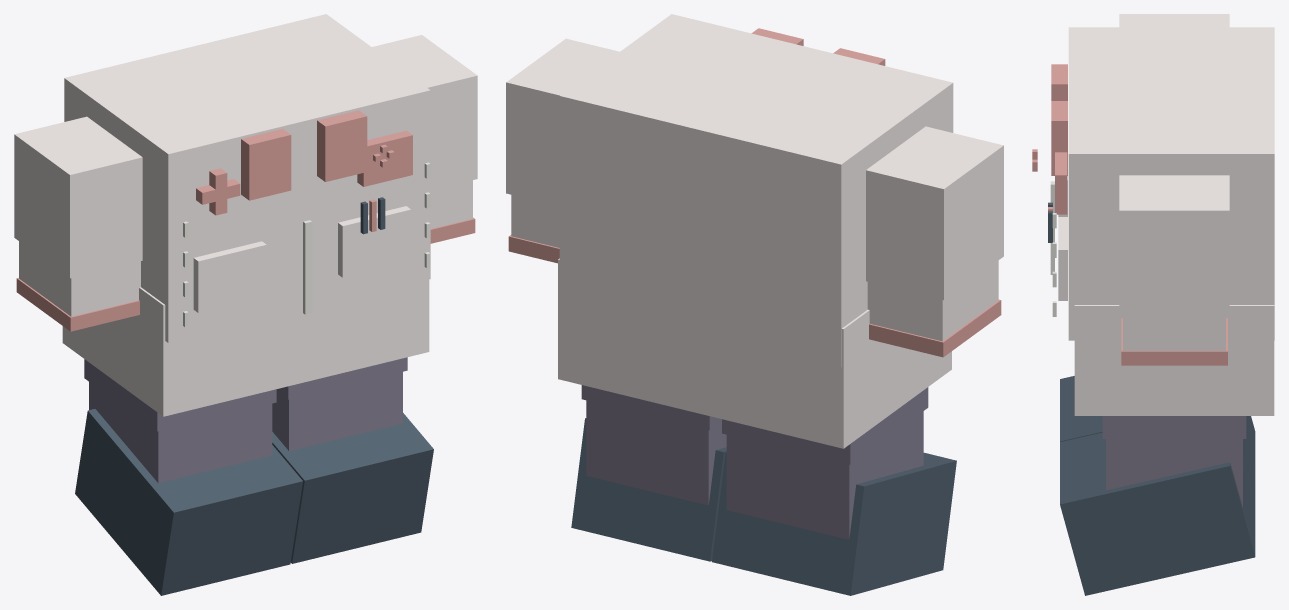
File: pharmacy-coral.glb
3 views of the same model, side by side, from view 1: azimuth 30°, elevation 25°; view 2: azimuth 150°, elevation 25°; view 3: azimuth 270°, elevation 25° (orthographic). The views are drawn at different scales.
Parts seen in each view (by area): view 1: jacket, coat-tails, shoe-Right, upper-sleeve-Right, shoe-Left, lower-trouser-Right, upper-sleeve-Left, lower-trouser-Left, lower-sleeve-Right, pocket--1, pocket-1, lapel-1 (+10 smaller); view 2: jacket, coat-tails, upper-sleeve-Right, shoe-Right, lower-trouser-Right, lower-trouser-Left, upper-sleeve-Left, shoe-Left, lower-sleeve-Right, trouser-Right, cuff-Right, lower-sleeve-Left (+2 smaller); view 3: jacket, shoe-Left, coat-tails, upper-sleeve-Left, lower-trouser-Left, lower-sleeve-Left, trouser-Left, shoe-Right, cuff-Left, upper-sleeve-Right, lapel-1, pocket-1 (+2 smaller).
Part boxes in pixels (x1,y1,x2,y2): jacket: (64, 14, 430, 342); coat-tails: (62, 279, 429, 416); shoe-Right: (75, 409, 302, 595); upper-sleeve-Right: (14, 116, 142, 278); shoe-Left: (272, 413, 433, 563); lower-trouser-Right: (89, 382, 272, 482); upper-sleeve-Left: (372, 35, 477, 190); lower-trouser-Left: (272, 372, 402, 451); lower-sleeve-Right: (19, 241, 140, 316); pocket--1: (193, 241, 266, 312); pocket-1: (338, 206, 411, 277); lapel-1: (317, 110, 367, 181); jacket: (559, 14, 953, 367); coat-tails: (558, 258, 951, 448); upper-sleeve-Right: (866, 126, 1003, 300); shoe-Right: (712, 452, 956, 595); lower-trouser-Right: (726, 411, 923, 539); lower-trouser-Left: (586, 400, 726, 505); upper-sleeve-Left: (506, 38, 619, 206); shoe-Left: (571, 418, 726, 561); lower-sleeve-Right: (867, 260, 998, 341); trouser-Right: (722, 387, 928, 464); cuff-Right: (869, 299, 1001, 357); lower-sleeve-Left: (511, 195, 559, 247); jacket: (1068, 27, 1274, 340); shoe-Left: (1060, 432, 1255, 595); coat-tails: (1074, 305, 1274, 415); upper-sleeve-Left: (1119, 175, 1229, 312); lower-trouser-Left: (1106, 439, 1242, 507); lower-sleeve-Left: (1123, 312, 1225, 350); trouser-Left: (1102, 416, 1246, 438); shoe-Right: (1060, 376, 1255, 493); cuff-Left: (1121, 318, 1227, 365); upper-sleeve-Right: (1119, 14, 1229, 27); lapel-1: (1051, 101, 1067, 175); pocket-1: (1058, 217, 1067, 300).
Size of the model in its own units: 1.07 by 1.13 by 0.559.
